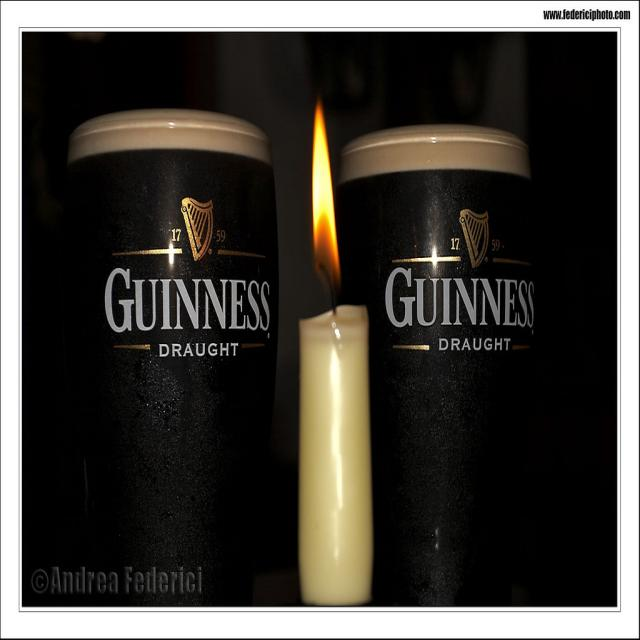guiness: (100, 195, 275, 339), (384, 208, 536, 335)
